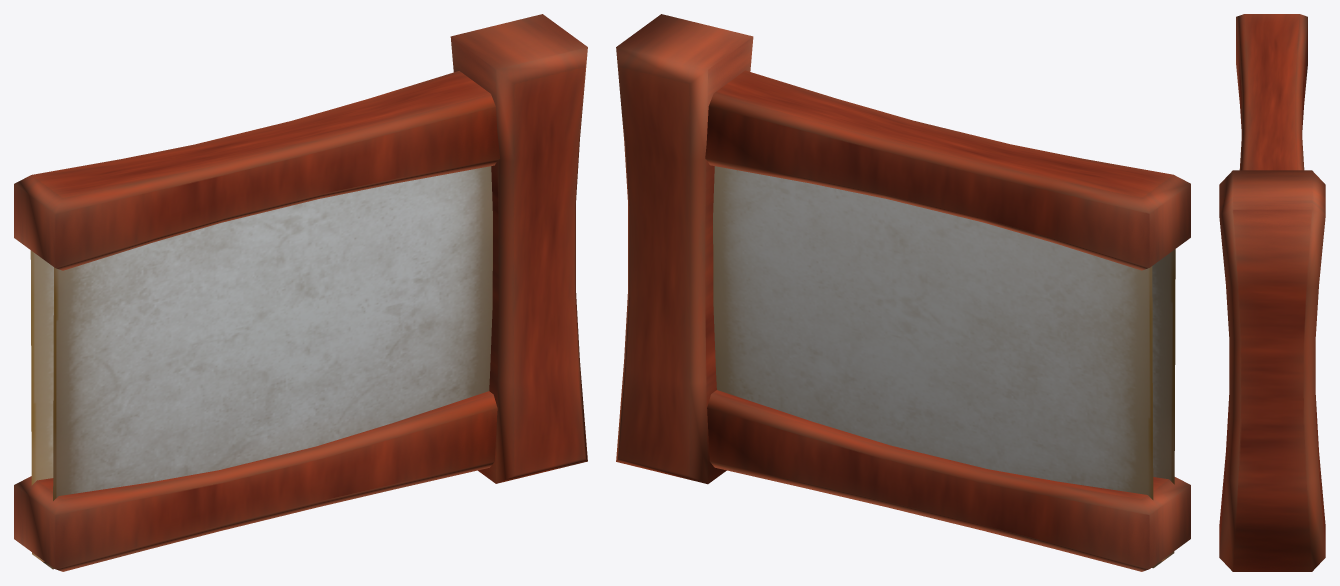
The model's file is wall_one_columne.fbx.
3 views of the same model, side by side, from view 1: azimuth 30°, elevation 25°; view 2: azimuth 150°, elevation 25°; view 3: azimuth 270°, elevation 25° (orthographic). The views are drawn at different scales.
Parts seen in each view (by area): view 1: wall_one_columne; view 2: wall_one_columne; view 3: wall_one_columne.
Boxes of the visible parts, x1=… form: wall_one_columne: x1=14, y1=14, x2=587, y2=571; wall_one_columne: x1=616, y1=14, x2=1190, y2=571; wall_one_columne: x1=1219, y1=14, x2=1325, y2=571.
Bounding box in the file's own units: 1121 × 836 × 223.
